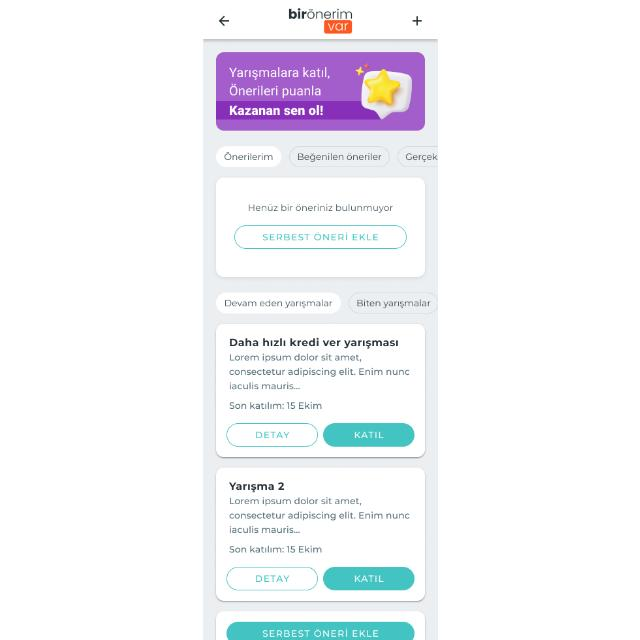QLabel: (224, 367, 410, 378), (225, 511, 409, 522), (223, 337, 397, 348), (243, 202, 395, 212), (257, 628, 379, 640), (226, 496, 366, 506), (226, 352, 366, 362), (259, 232, 381, 242), (222, 298, 332, 308), (225, 400, 322, 410), (295, 152, 383, 162), (354, 298, 431, 308), (226, 544, 320, 552), (226, 524, 300, 534), (224, 480, 284, 492), (225, 382, 299, 391), (248, 428, 294, 442), (222, 150, 272, 162), (348, 428, 388, 442), (350, 571, 384, 587), (250, 574, 290, 584), (403, 153, 437, 163)
VAppBar: (202, 1, 438, 40)
VBtn: (234, 224, 406, 250), (226, 622, 414, 640), (226, 422, 316, 448), (226, 567, 318, 591), (322, 423, 414, 447), (322, 567, 412, 591)
VCard: (214, 466, 426, 602), (213, 326, 425, 458), (214, 177, 423, 277), (214, 610, 424, 640)
VChip: (214, 292, 342, 314), (288, 146, 392, 168), (348, 292, 437, 312), (215, 146, 281, 166), (397, 146, 437, 168)
VIcon: (218, 16, 228, 26), (411, 16, 421, 26)
VImg: (215, 51, 425, 131), (283, 5, 357, 35)
